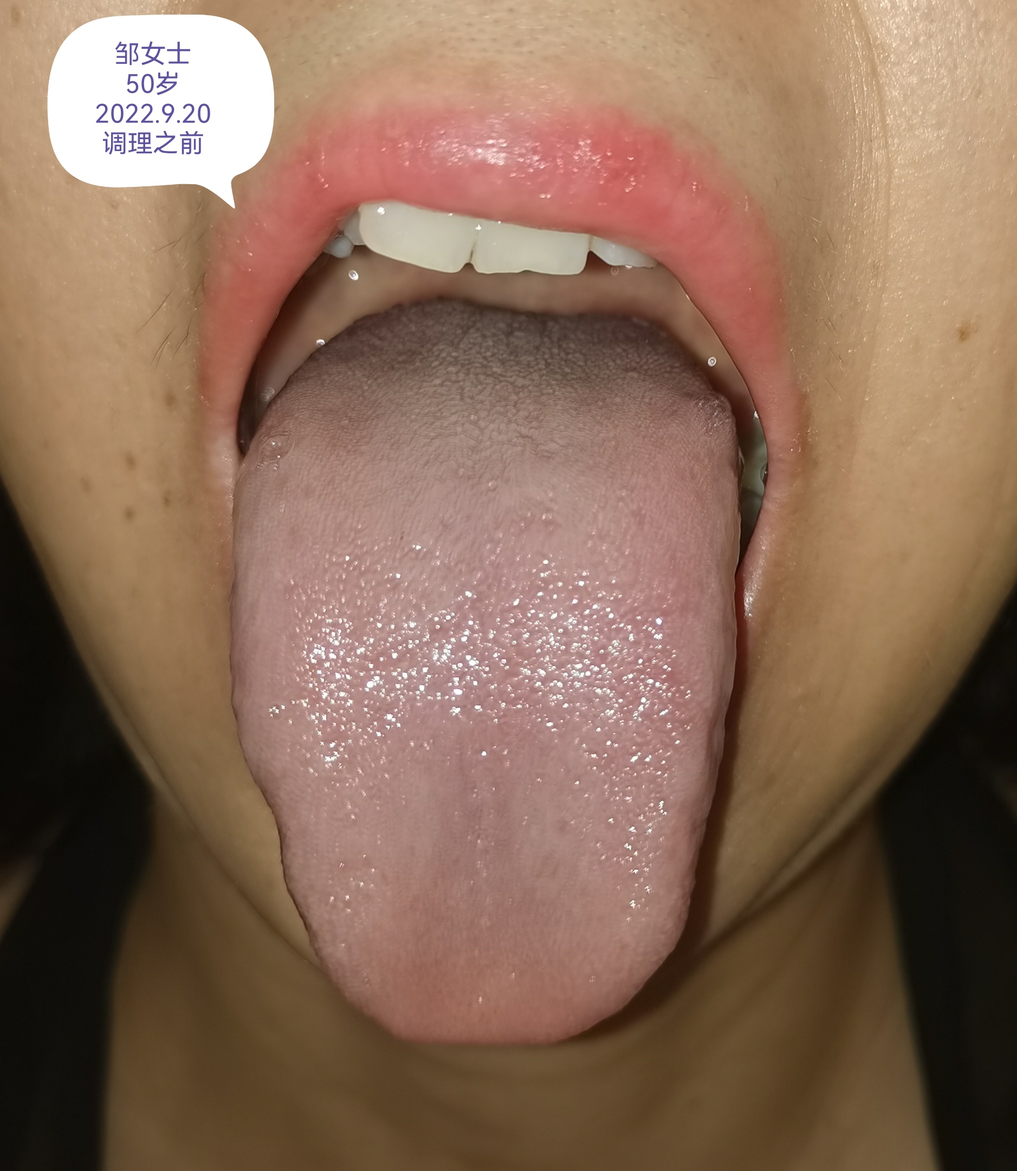baitaishe: (232, 297, 741, 1049)
